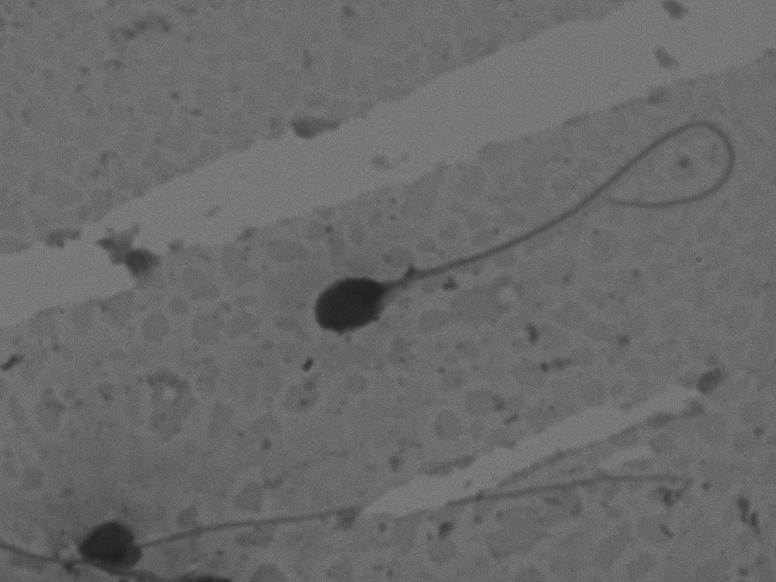Abnormal: (286, 91, 748, 362)
